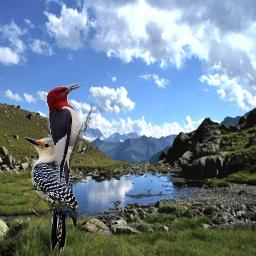Woodpecker: (24, 137, 78, 253), (46, 83, 92, 194)
